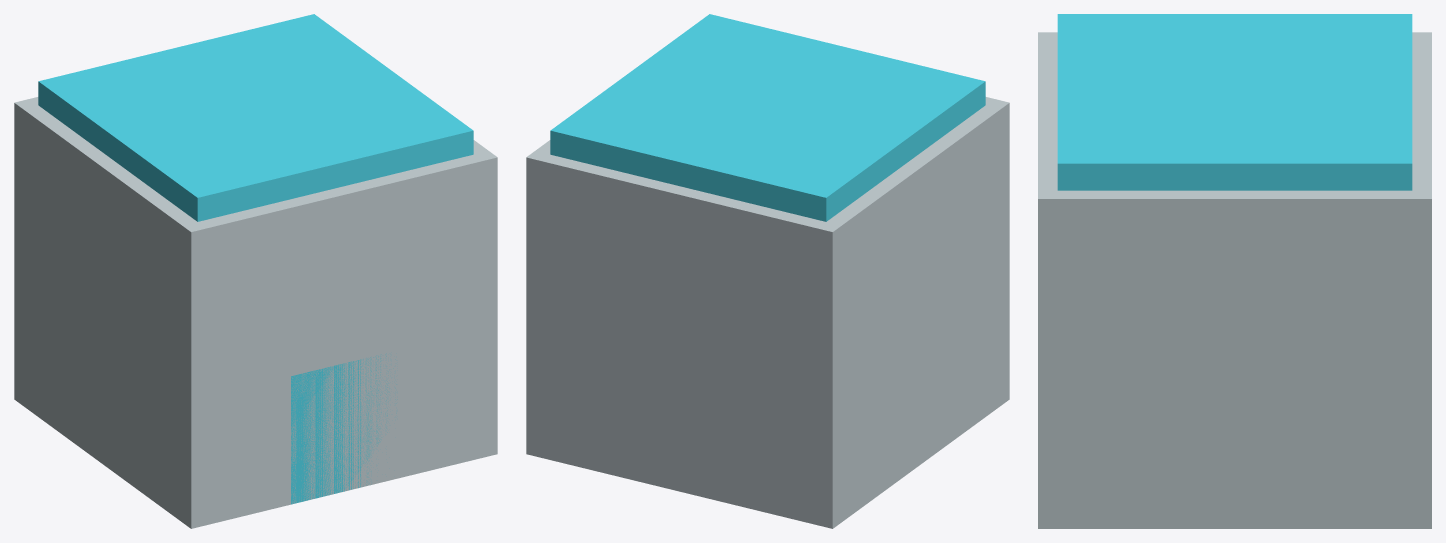
File: building-basic-small.glb
3 renders of one model, left to right at view 1: azimuth 30°, elevation 25°; view 2: azimuth 150°, elevation 25°; view 3: azimuth 270°, elevation 25°, orthographic. The views are drawn at different scales.
Parts seen in each view (by area): view 1: building-basic-small_tier_1, building-basic-small_tier_2, building-basic-small_entrance_frame; view 2: building-basic-small_tier_1, building-basic-small_tier_2; view 3: building-basic-small_tier_1, building-basic-small_tier_2.
Boxes of the visible parts, x1=… form: building-basic-small_tier_1: x1=14, y1=97, x2=497, y2=528; building-basic-small_tier_2: x1=38, y1=14, x2=473, y2=221; building-basic-small_entrance_frame: x1=291, y1=353, x2=397, y2=504; building-basic-small_tier_1: x1=526, y1=97, x2=1009, y2=528; building-basic-small_tier_2: x1=550, y1=14, x2=985, y2=221; building-basic-small_tier_1: x1=1038, y1=32, x2=1431, y2=528; building-basic-small_tier_2: x1=1057, y1=14, x2=1412, y2=190.
Bounding box in the file's own units: 8 × 8 × 8.
